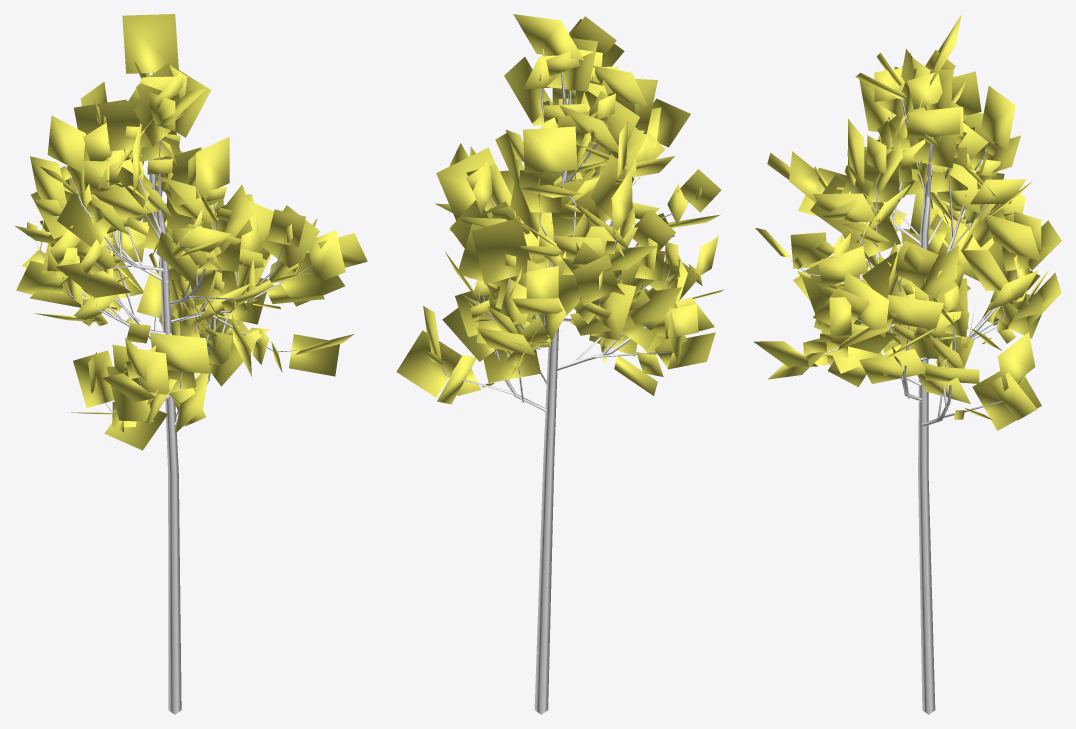
Rendered from aspen_medium_v0_lod2.glb.
3 renders of one model, left to right at view 1: azimuth 30°, elevation 25°; view 2: azimuth 150°, elevation 25°; view 3: azimuth 270°, elevation 25°, orthographic. The views are drawn at different scales.
Parts seen in each view (by area): view 1: Leaves, Branches; view 2: Leaves, Branches; view 3: Leaves, Branches.
Boxes of the visible parts, left/top/right/bottom form: Leaves: left=15, top=14, right=367, bottom=450; Branches: left=35, top=74, right=312, bottom=714; Leaves: left=396, top=14, right=723, bottom=404; Branches: left=440, top=71, right=701, bottom=714; Leaves: left=753, top=14, right=1061, bottom=430; Branches: left=788, top=88, right=1028, bottom=714.
Bounding box in the file's own units: 30.82 × 72.13 × 29.67.
